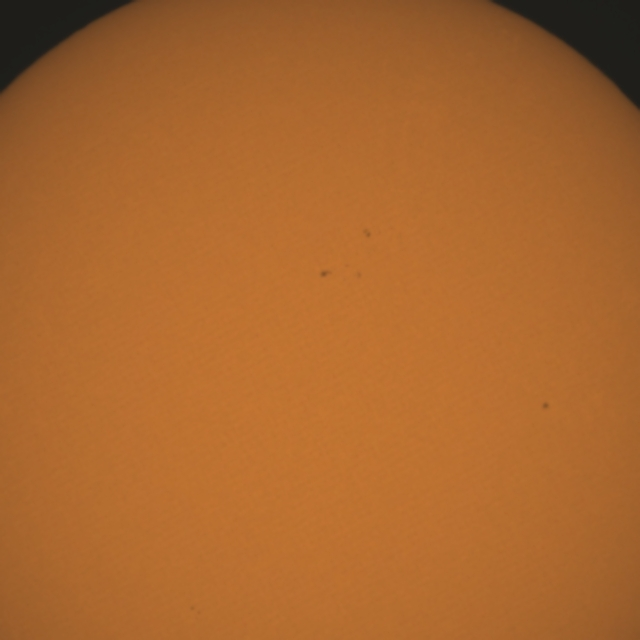sunspot: (317, 263, 364, 282), (189, 604, 202, 617), (318, 268, 333, 279), (362, 227, 372, 240), (541, 400, 551, 412), (354, 269, 363, 280)
